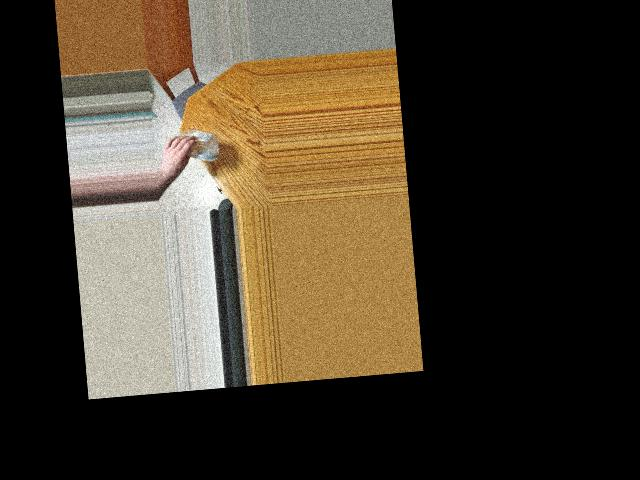cheese: (167, 129, 207, 165)
